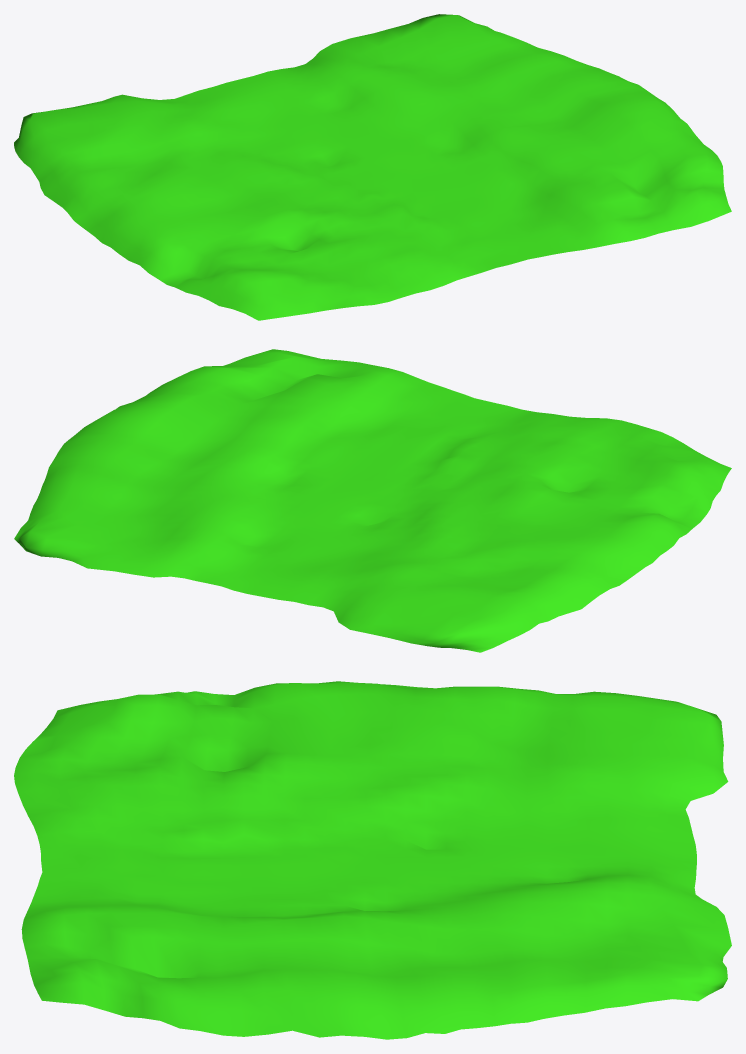
Rendered from LandScape_FirstScene2.fbx.
The picture shows the model from 3 angles, top to bottom: view 1: azimuth 30°, elevation 25°; view 2: azimuth 150°, elevation 25°; view 3: azimuth 270°, elevation 25°; orthographic projection. The views are drawn at different scales.
Visible parts, largest first — view 1: LandScapeArea; view 2: LandScapeArea; view 3: LandScapeArea.
Part boxes in pixels (x1,y1,x2,y2): LandScapeArea: (14, 14, 731, 320); LandScapeArea: (14, 349, 731, 652); LandScapeArea: (14, 681, 731, 1039).
Bounding box in the file's own units: 116 × 4.83 × 99.97.
